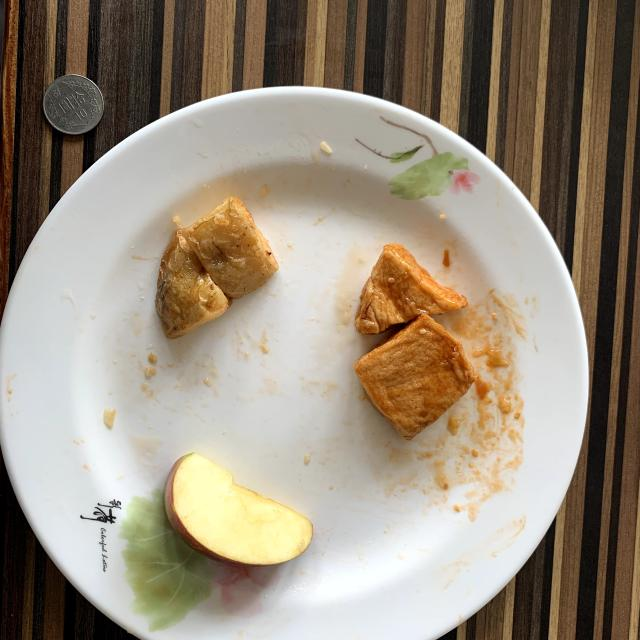apple -sliced-: (165, 452, 312, 565)
coin: (42, 75, 104, 135)
creamy tofu: (354, 242, 478, 440)
fried potato: (155, 196, 279, 339)
